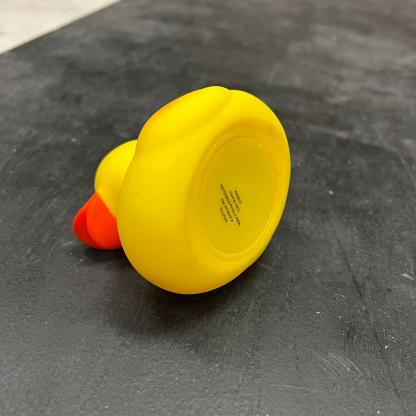duck: (68, 81, 298, 304)
